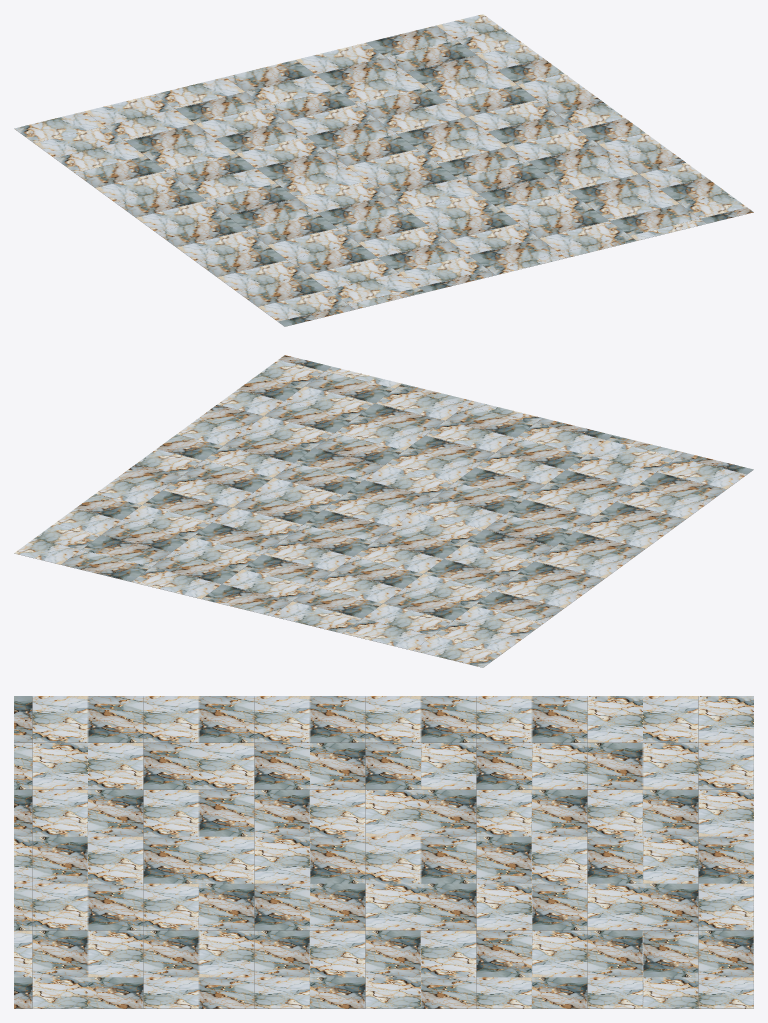
The model's file is azul-latino-60x120.glb.
3 views of the same model, one above another, from view 1: azimuth 30°, elevation 25°; view 2: azimuth 150°, elevation 25°; view 3: azimuth 270°, elevation 25° (orthographic). The views are drawn at different scales.
Parts seen in each view (by area): view 1: Azul Latino; view 2: Azul Latino; view 3: Azul Latino.
Boxes of the visible parts, x1,y1,x2,y2 form: Azul Latino: (14, 14, 753, 326); Azul Latino: (14, 355, 753, 667); Azul Latino: (14, 696, 753, 1008).
Size of the model in its own units: 8 by 0.003 by 8.
2 materials, 1 textured.
